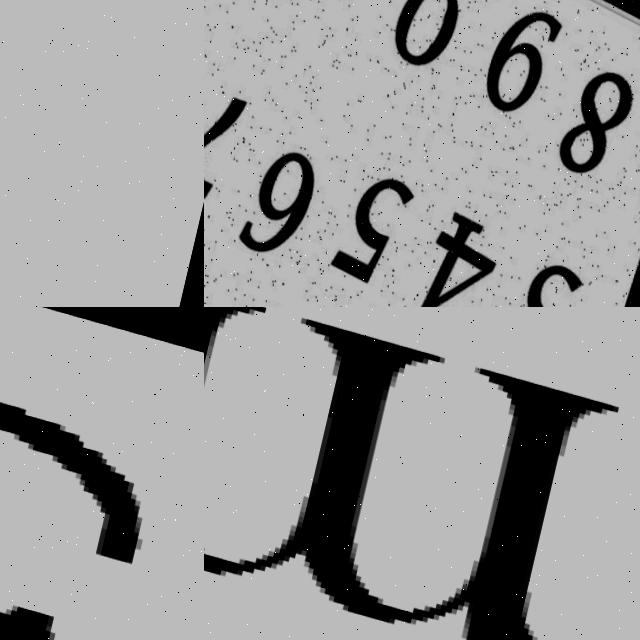0: (364, 0, 489, 92)
3: (480, 227, 610, 307)
4: (387, 184, 528, 307)
5: (0, 307, 169, 640), (303, 140, 439, 307)
6: (209, 118, 346, 294)
7: (204, 55, 272, 234)
8: (527, 23, 640, 204)
9: (450, 0, 593, 141)
J: (0, 0, 61, 307)
M: (204, 307, 629, 640)
